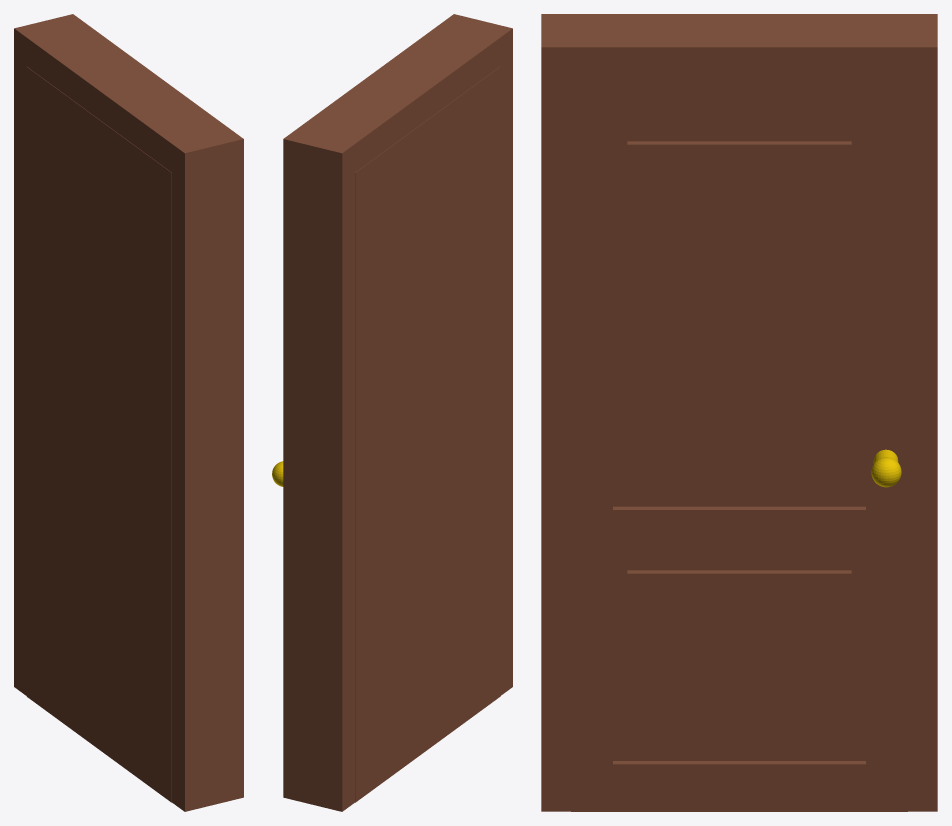
The model's file is desktop.fbx.
3 renders of one model, left to right at view 1: azimuth 30°, elevation 25°; view 2: azimuth 150°, elevation 25°; view 3: azimuth 270°, elevation 25°, orthographic. The views are drawn at different scales.
Visible parts, largest first — view 1: Cube.003, Cube.001; view 2: Cube.003, Cube.001; view 3: Cube.003, Cube.001, Sphere.
Boxes of the visible parts, x1,y1,x2,y2 form: Cube.003: (26,67,171,802); Cube.001: (14,14,243,811); Cube.003: (355,66,500,802); Cube.001: (283,14,512,811); Cube.003: (571,81,907,811); Cube.001: (541,14,937,811); Sphere: (871,449,901,487).
Bounding box in the file's own units: 204 × 1409 × 662.
